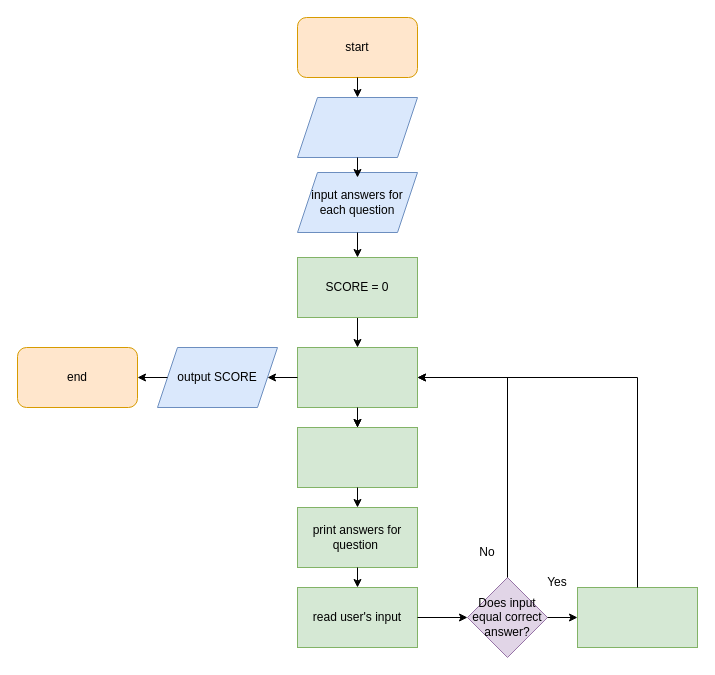
Image size: 715x675. Some labels were removed from this diagram. Each missing label, with the centre of its shape:
"for all questions" belongs at [357,377].
"input questions" belongs at [357,127].
"print question" belongs at [357,457].
"SCORE = SCORE+1" belongs at [637,617].
